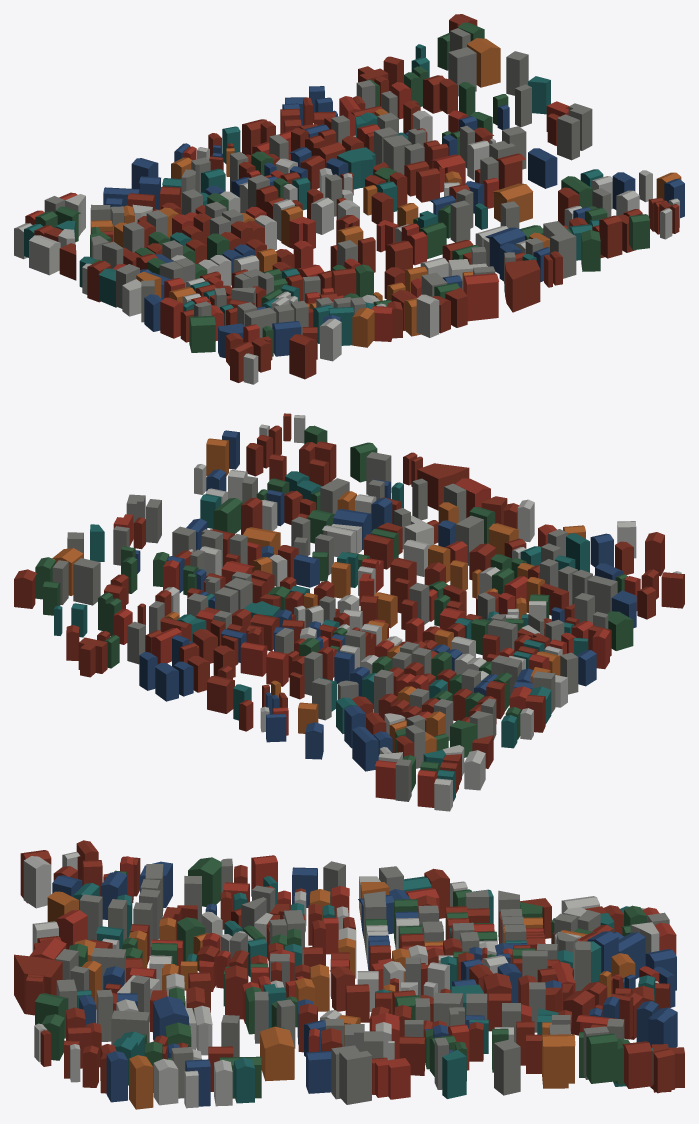
File: near-17-109432-59476.ab658c88.glb
The picture shows the model from 3 angles, top to bottom: view 1: azimuth 30°, elevation 25°; view 2: azimuth 150°, elevation 25°; view 3: azimuth 270°, elevation 25°; orthographic projection. The views are drawn at different scales.
Bounding box in the file's own units: 307 × 85.62 × 309.
